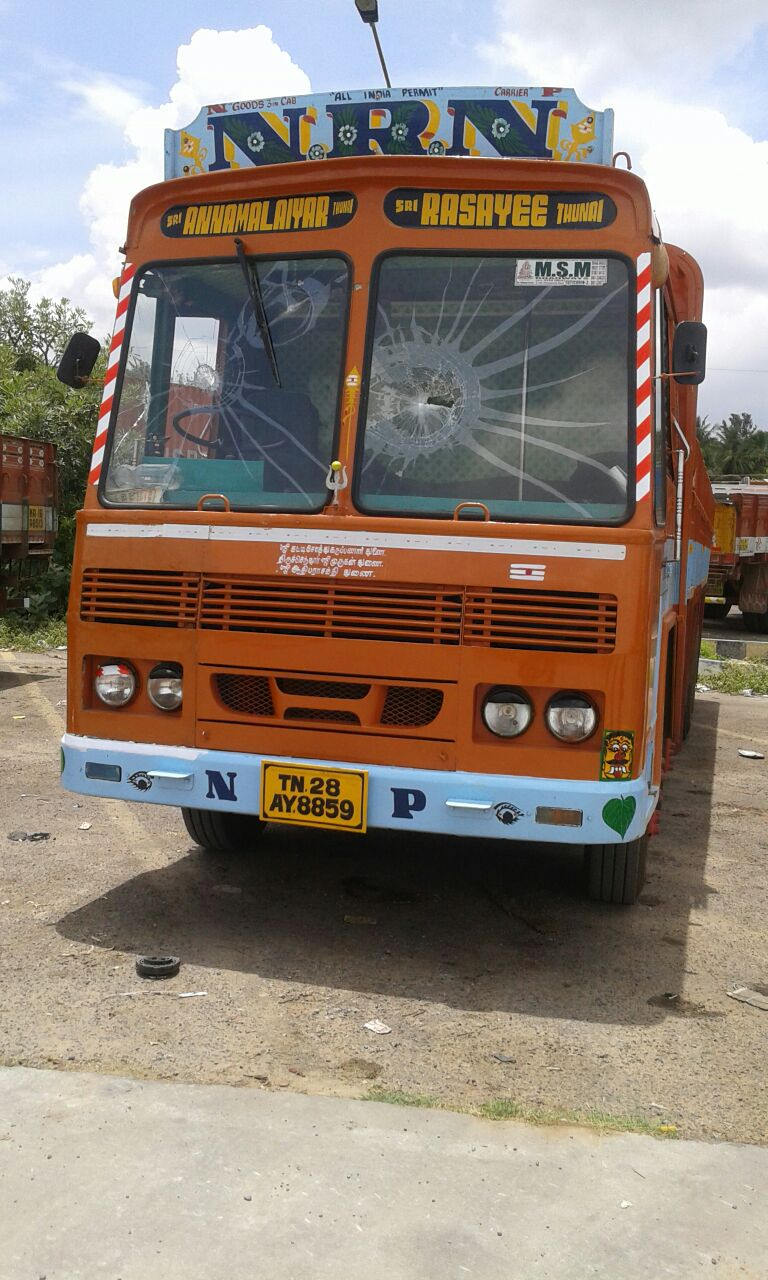T: (274, 772, 290, 793)
